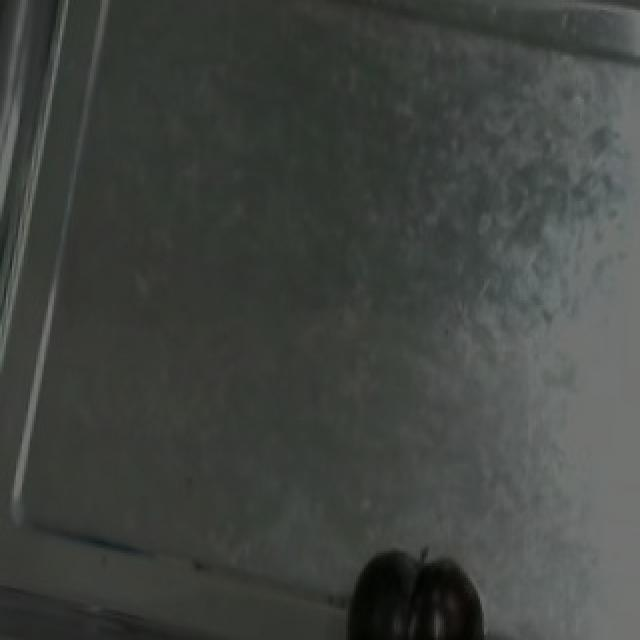Fruit: (336, 541, 494, 640)
